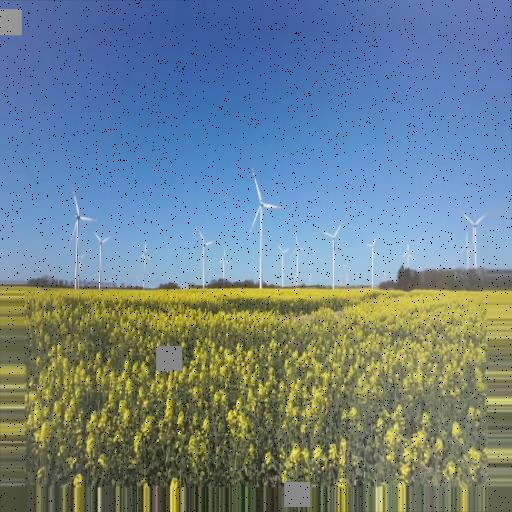wind turbine: (248, 165, 285, 287), (68, 190, 98, 287), (318, 223, 347, 287), (459, 212, 487, 268), (197, 227, 216, 286), (90, 232, 111, 284)
